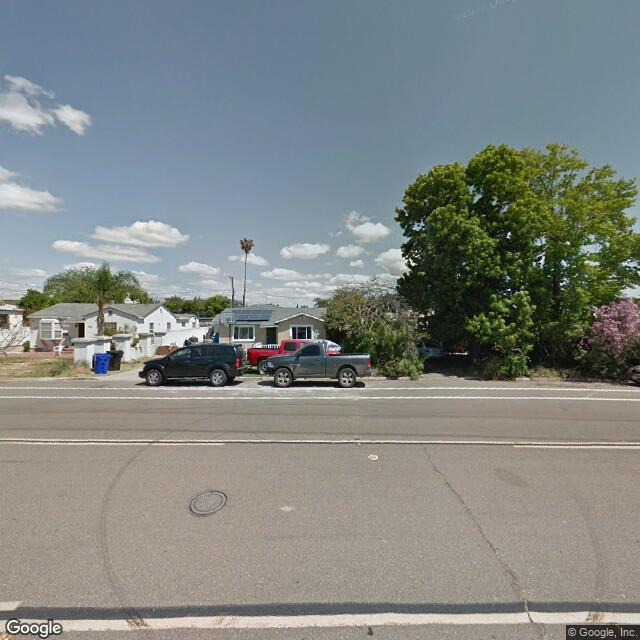litter: (366, 452, 380, 462)
